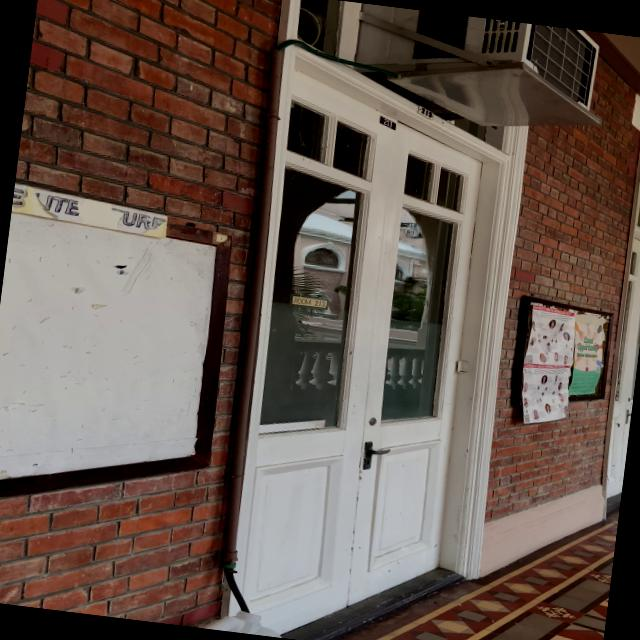room213: (375, 114, 397, 130)
room213Window: (286, 290, 338, 314)
